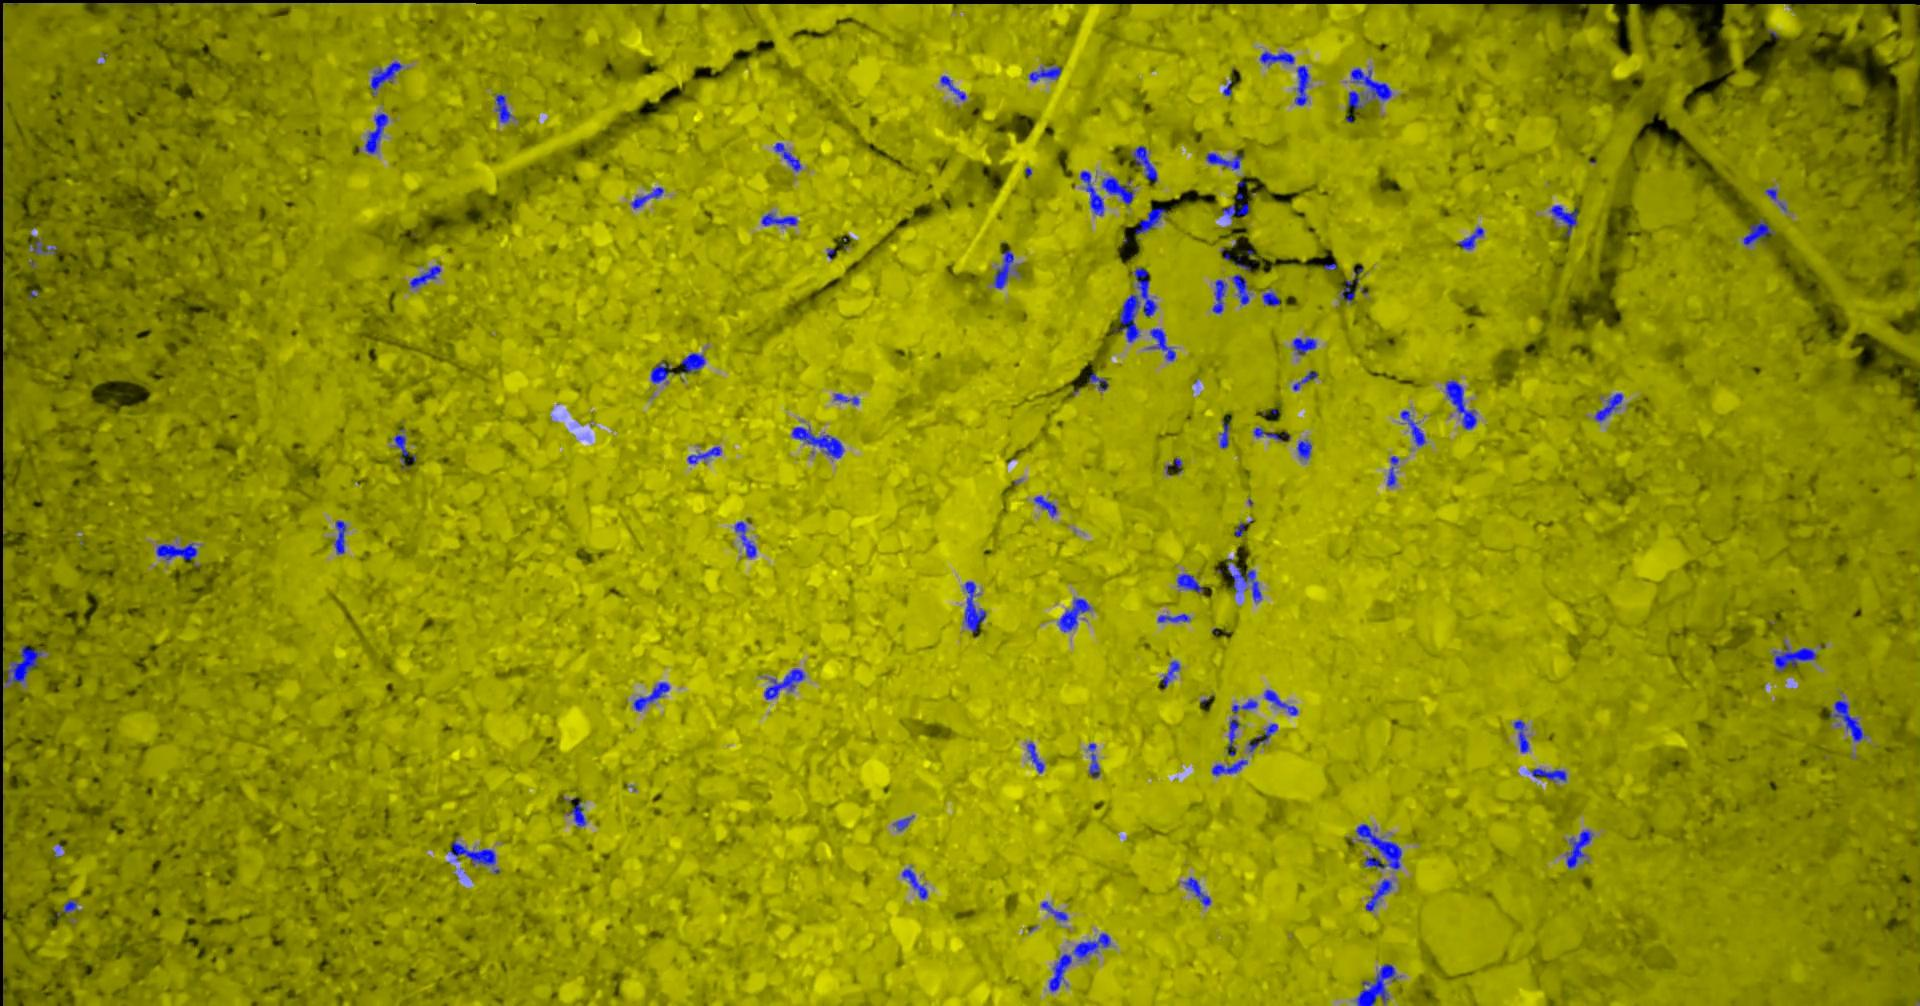ant: (1050, 934, 1112, 991), (1115, 267, 1158, 342), (1357, 823, 1403, 869), (1357, 963, 1402, 1005), (792, 426, 844, 459), (4, 644, 44, 682), (1448, 380, 1478, 429), (1831, 699, 1865, 741), (1352, 67, 1393, 100), (1228, 564, 1263, 601), (764, 668, 806, 699), (451, 840, 497, 865), (1774, 645, 1818, 671), (1059, 598, 1092, 631), (634, 681, 670, 710), (1081, 170, 1105, 215), (966, 580, 987, 631), (1568, 829, 1594, 869), (1131, 145, 1159, 180), (371, 61, 404, 90), (1265, 688, 1299, 715), (1402, 410, 1427, 446), (366, 113, 389, 152), (1103, 177, 1135, 205), (1149, 328, 1177, 359), (395, 427, 417, 467), (1552, 205, 1578, 236), (1745, 218, 1777, 245), (903, 868, 930, 899), (775, 142, 803, 171), (1250, 723, 1279, 751), (1137, 207, 1167, 234), (1596, 392, 1624, 420), (1368, 879, 1393, 909), (996, 249, 1015, 288), (737, 521, 757, 558), (1185, 876, 1211, 904), (1342, 267, 1364, 301), (632, 187, 665, 208), (157, 542, 198, 559), (411, 265, 442, 287), (942, 75, 968, 100), (1458, 226, 1484, 249), (1208, 152, 1244, 169), (690, 446, 723, 464), (1297, 65, 1310, 105), (1031, 64, 1063, 81), (1213, 760, 1250, 775), (651, 361, 676, 384), (682, 352, 707, 373), (1515, 719, 1531, 752), (1029, 742, 1046, 772), (1294, 370, 1319, 390), (1255, 427, 1291, 441), (1043, 901, 1069, 920), (1261, 51, 1297, 65), (1178, 573, 1204, 592), (1228, 718, 1241, 754), (1531, 768, 1568, 781), (1035, 495, 1058, 516), (30, 238, 58, 254), (1214, 279, 1228, 312), (1234, 274, 1250, 304), (1164, 661, 1181, 687), (497, 94, 512, 122), (763, 213, 799, 225), (1294, 337, 1317, 354), (1224, 203, 1250, 218), (571, 800, 587, 826), (1090, 743, 1101, 776), (1233, 699, 1258, 713), (1388, 455, 1399, 485), (337, 520, 347, 554), (1090, 372, 1109, 390), (836, 392, 861, 404), (1298, 439, 1313, 459), (895, 815, 916, 829), (1159, 614, 1191, 622), (1349, 90, 1364, 108), (1263, 290, 1281, 305), (1222, 420, 1230, 447), (65, 899, 77, 912)
